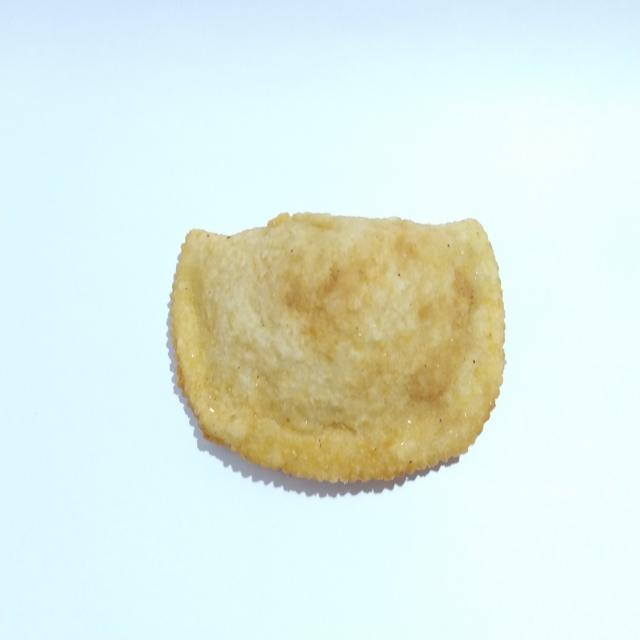Pastel_Mandio: (158, 194, 512, 499)
